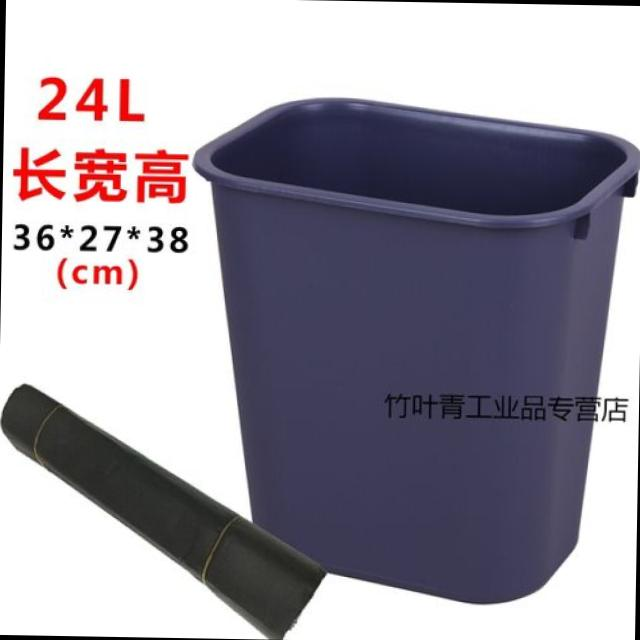dustbin: (182, 88, 640, 609)
